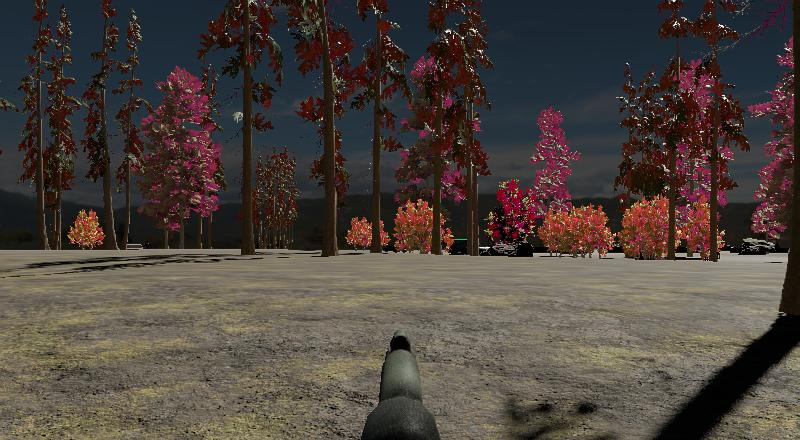car: (446, 237, 483, 256)
